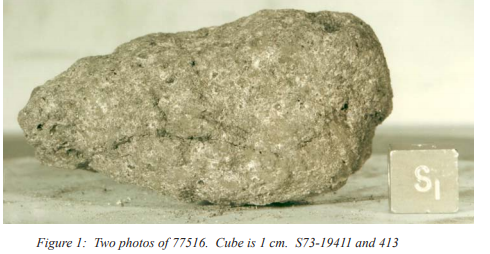Basalt: (8, 11, 398, 215)
